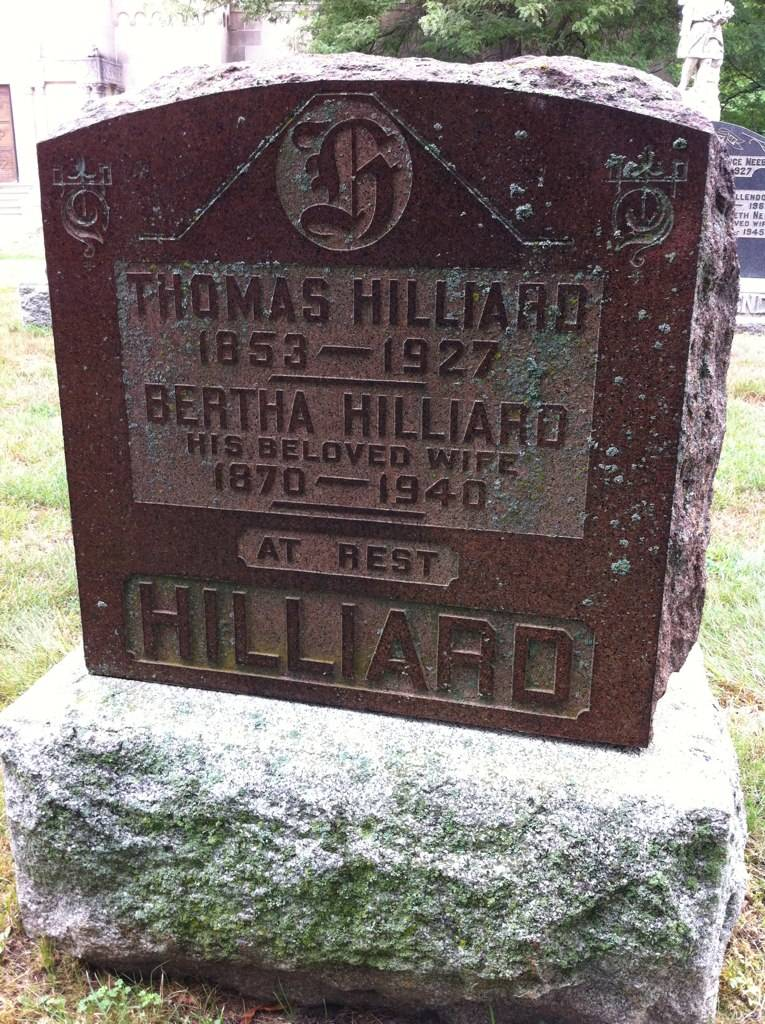upright: (25, 32, 744, 759)
